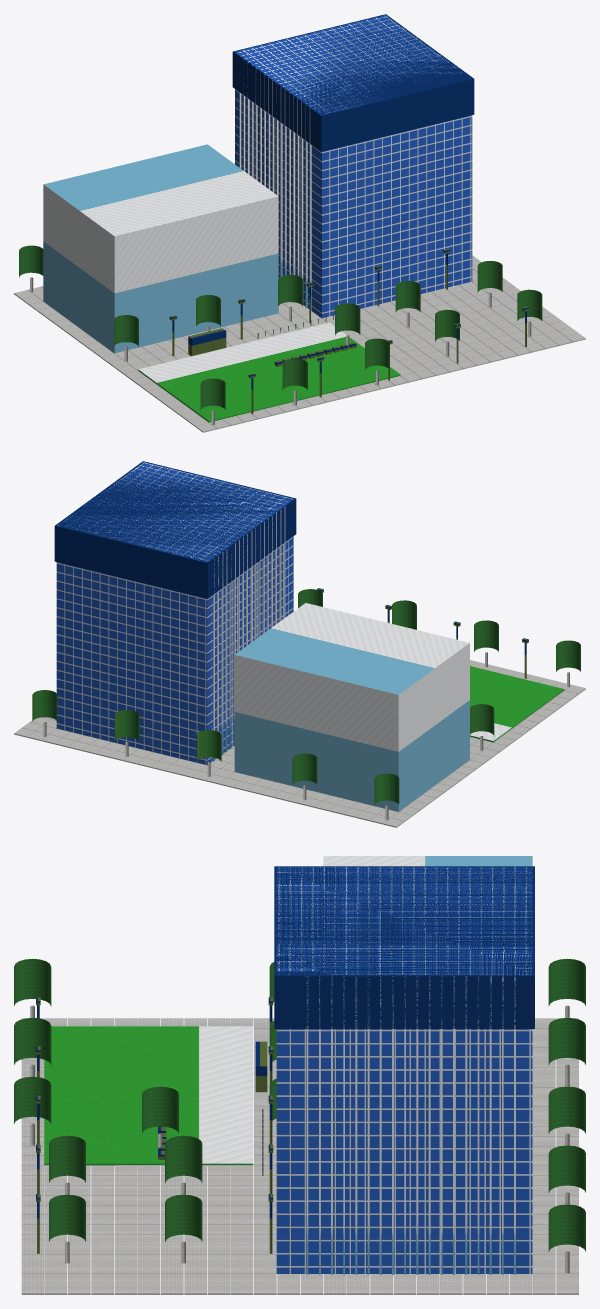
3 views of the same model, one above another, from view 1: azimuth 30°, elevation 25°; view 2: azimuth 150°, elevation 25°; view 3: azimuth 270°, elevation 25° (orthographic). The views are drawn at different scales.
Visible parts, largest first — view 1: 28185_B29_HUFS_Songdo_Campus; view 2: 28185_B29_HUFS_Songdo_Campus; view 3: 28185_B29_HUFS_Songdo_Campus.
Part boxes in pixels (bbox=[...]): 28185_B29_HUFS_Songdo_Campus: bbox=[14, 14, 585, 432]; 28185_B29_HUFS_Songdo_Campus: bbox=[14, 461, 585, 827]; 28185_B29_HUFS_Songdo_Campus: bbox=[14, 856, 585, 1294].
Bounding box in the file's own units: 55.95 × 28.5 × 49.2.
1 material, 1 textured.
